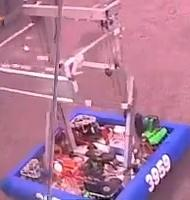blue_number: (144, 152, 173, 194)
